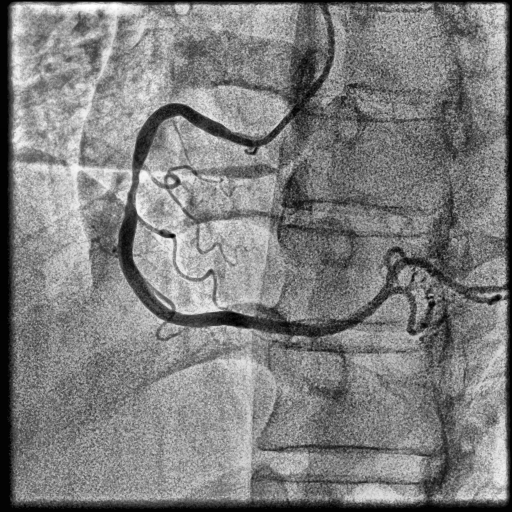pborca: (319, 256, 472, 336)
rca: (119, 103, 319, 337)
